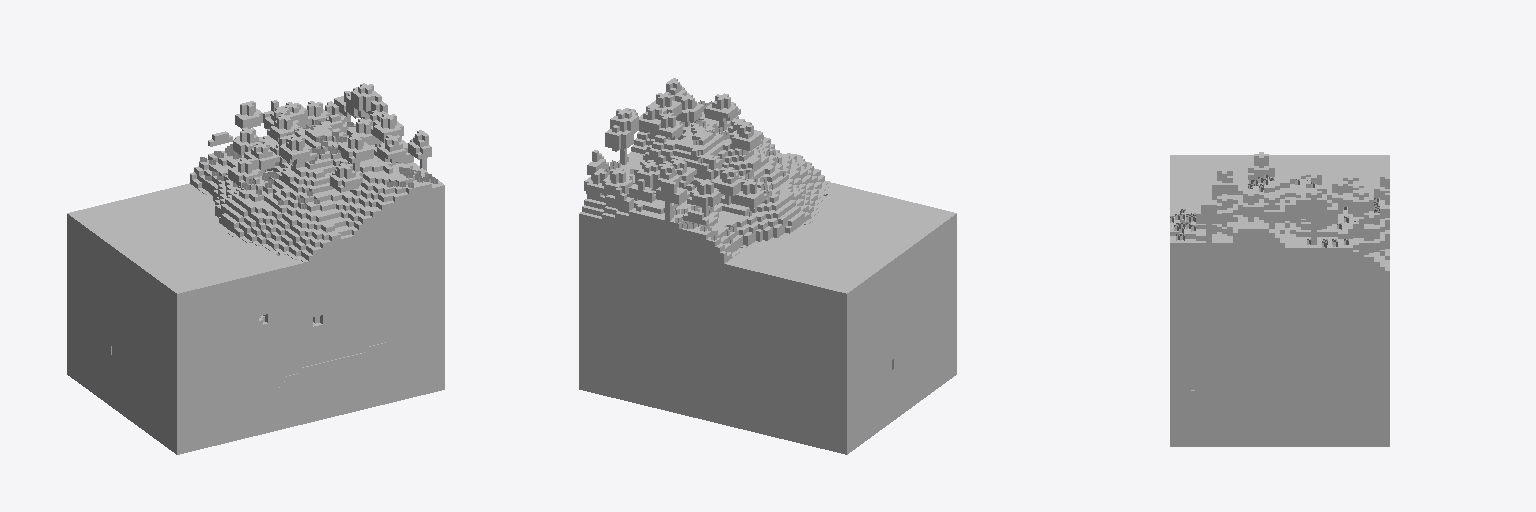
3 renders of one model, left to right at view 1: azimuth 30°, elevation 25°; view 2: azimuth 150°, elevation 25°; view 3: azimuth 270°, elevation 25°, orthographic.
Visible parts, largest first — view 1: ___-54_29_-55_to_4_319_-14; view 2: ___-54_29_-55_to_4_319_-14; view 3: ___-54_29_-55_to_4_319_-14.
Boxes of the visible parts, x1=… form: ___-54_29_-55_to_4_319_-14: x1=67, y1=83, x2=444, y2=454; ___-54_29_-55_to_4_319_-14: x1=579, y1=78, x2=956, y2=454; ___-54_29_-55_to_4_319_-14: x1=1170, y1=152, x2=1389, y2=446.
Bounding box in the file's own units: 59.27 × 53 × 42.1.